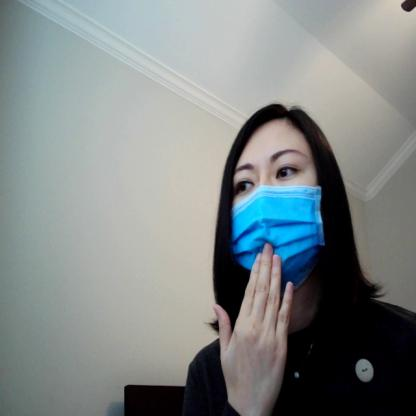thanks: (210, 245, 300, 415)
